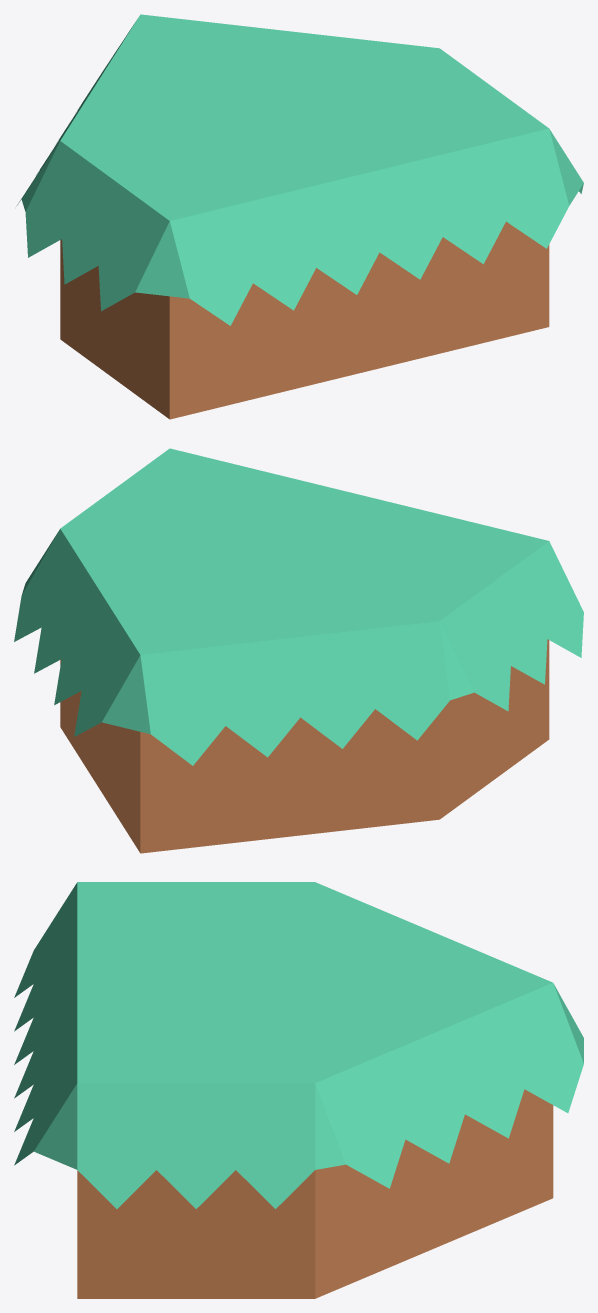
The model's file is blockEnd.gltf.
3 views of the same model, one above another, from view 1: azimuth 30°, elevation 25°; view 2: azimuth 150°, elevation 25°; view 3: azimuth 270°, elevation 25° (orthographic). The views are drawn at different scales.
Visible parts, largest first — view 1: blockEnd; view 2: blockEnd; view 3: blockEnd.
Part boxes in pixels (x1,y1,x2,y2): blockEnd: (17, 14, 583, 419); blockEnd: (14, 448, 583, 853); blockEnd: (14, 882, 583, 1298).
Bounding box in the file's own units: 1.27 × 0.5 × 1.2.
